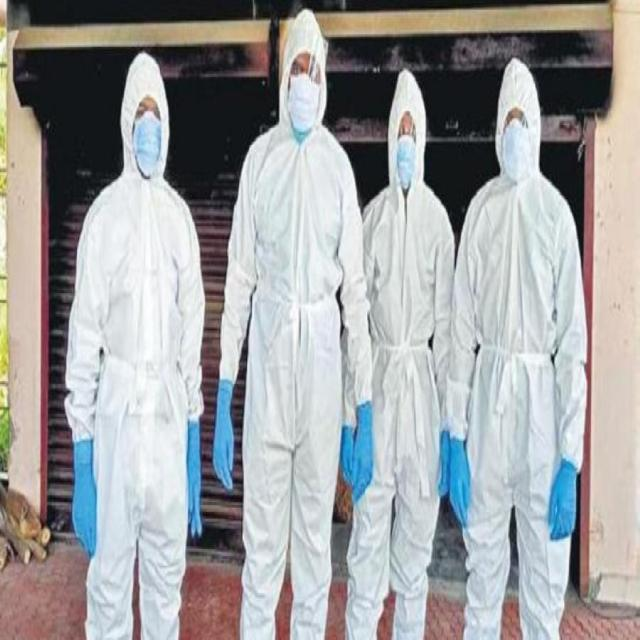Coverall: (75, 28, 225, 623), (218, 10, 354, 636), (465, 84, 596, 593), (369, 27, 455, 640)
Gloves: (65, 444, 121, 559), (331, 416, 389, 517), (440, 418, 477, 548), (211, 374, 252, 491), (187, 407, 219, 546), (540, 465, 585, 531)
Mask: (493, 128, 542, 192), (128, 107, 165, 181), (282, 67, 325, 129), (393, 132, 425, 188)
